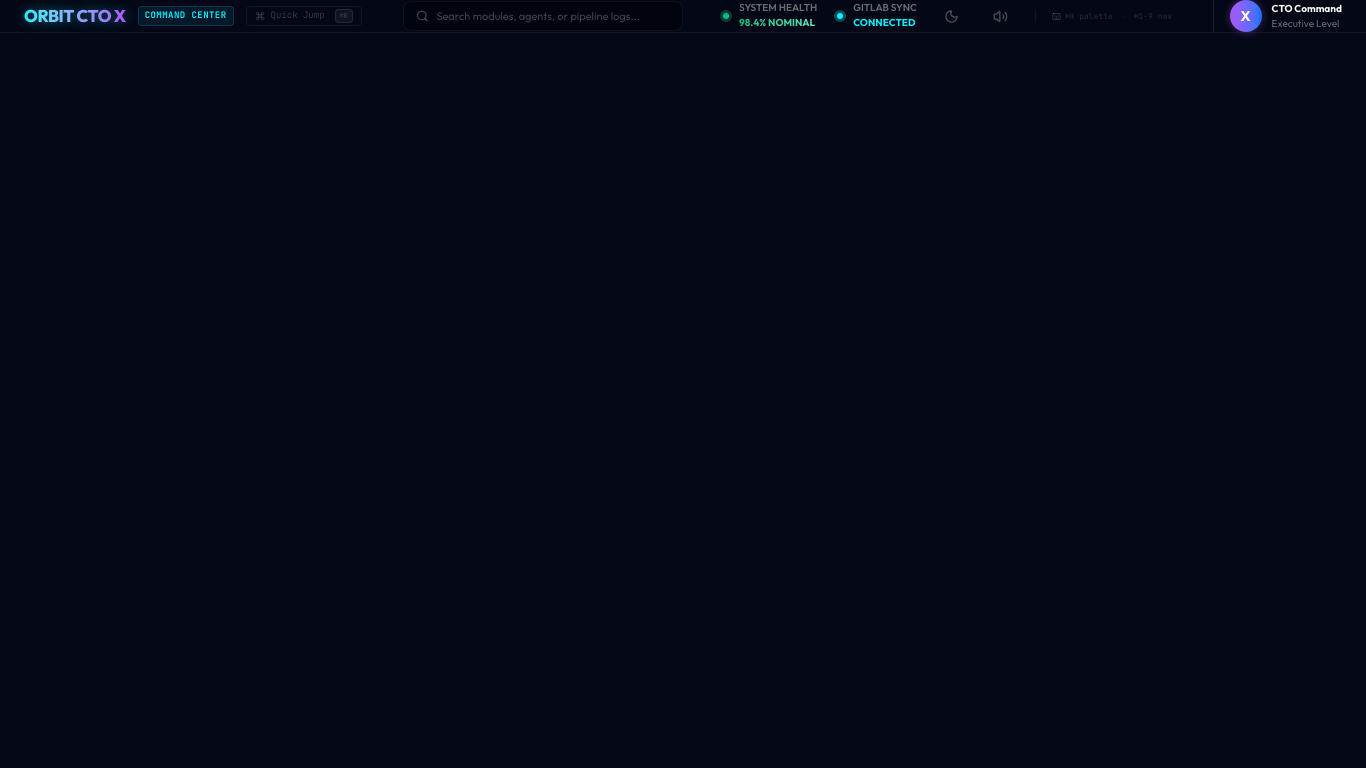
Test: CommandBar › command palette › opens command palette when Quick Jump button is clicked
Click the text "Quick Jump": (298, 16) [271,9,325,23]
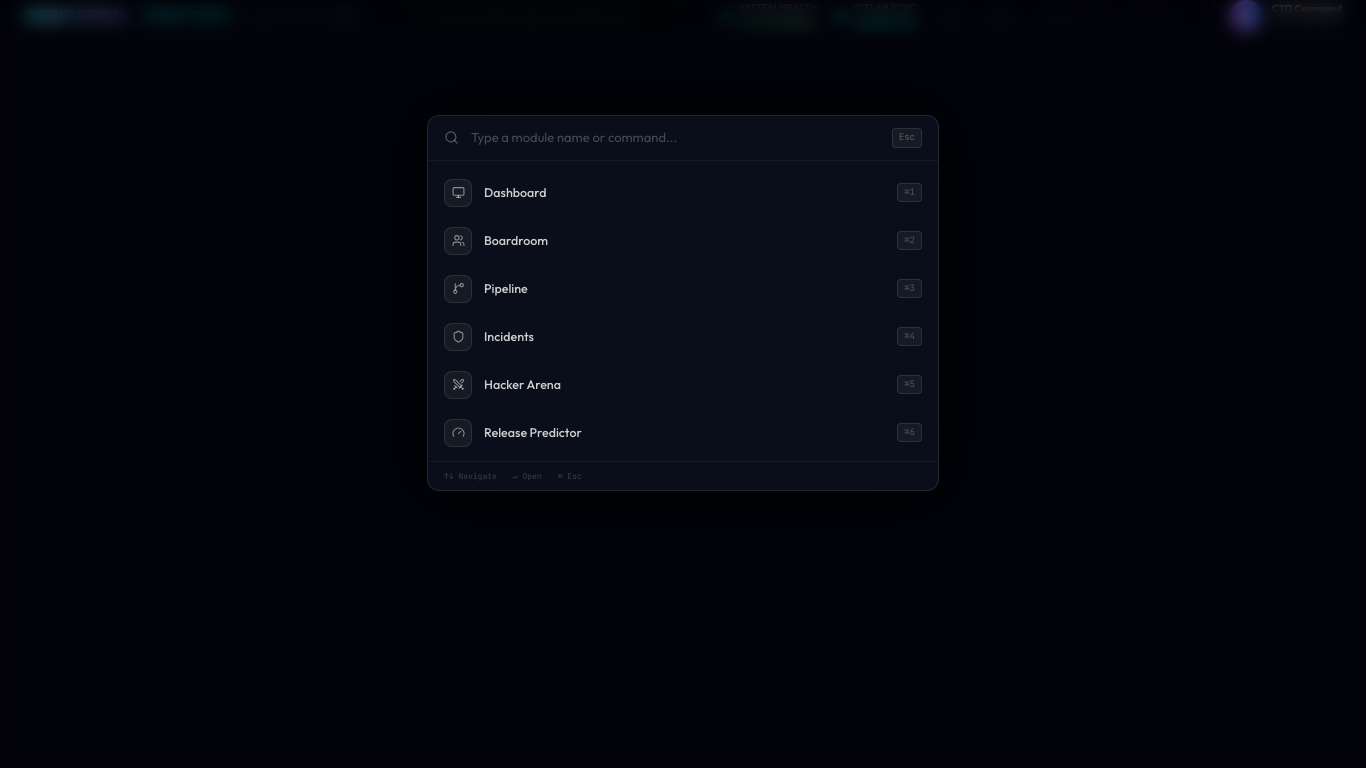
Now the field with placeholder "Type a module name or command..." is shown, box [471,128,880,148]
